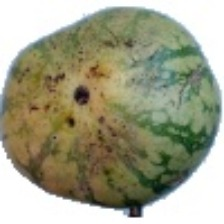watermelon: (55, 29, 192, 205)
